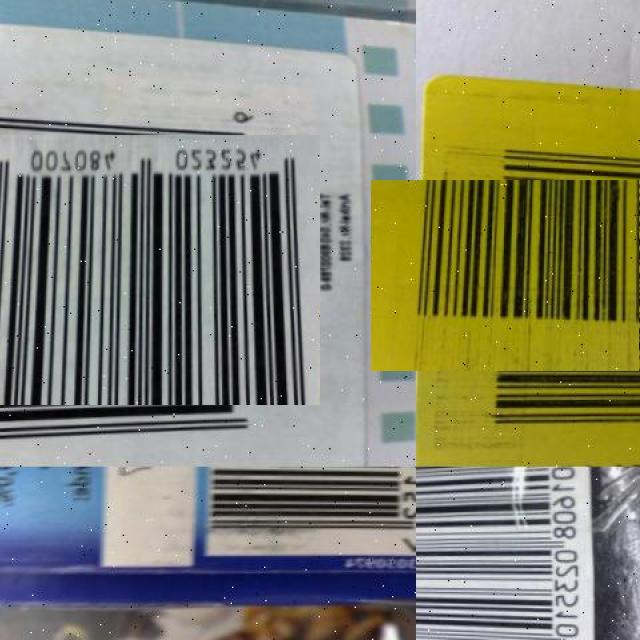Barcode: (0, 109, 295, 430), (409, 141, 640, 409), (416, 466, 594, 640), (207, 466, 416, 554)
